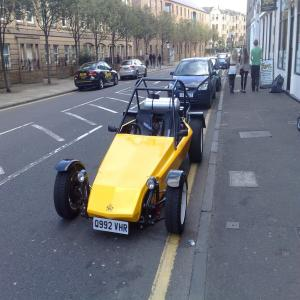Vehicle-registration-plate: (94, 220, 129, 237), (180, 94, 194, 98), (81, 74, 87, 77), (124, 69, 129, 71)
